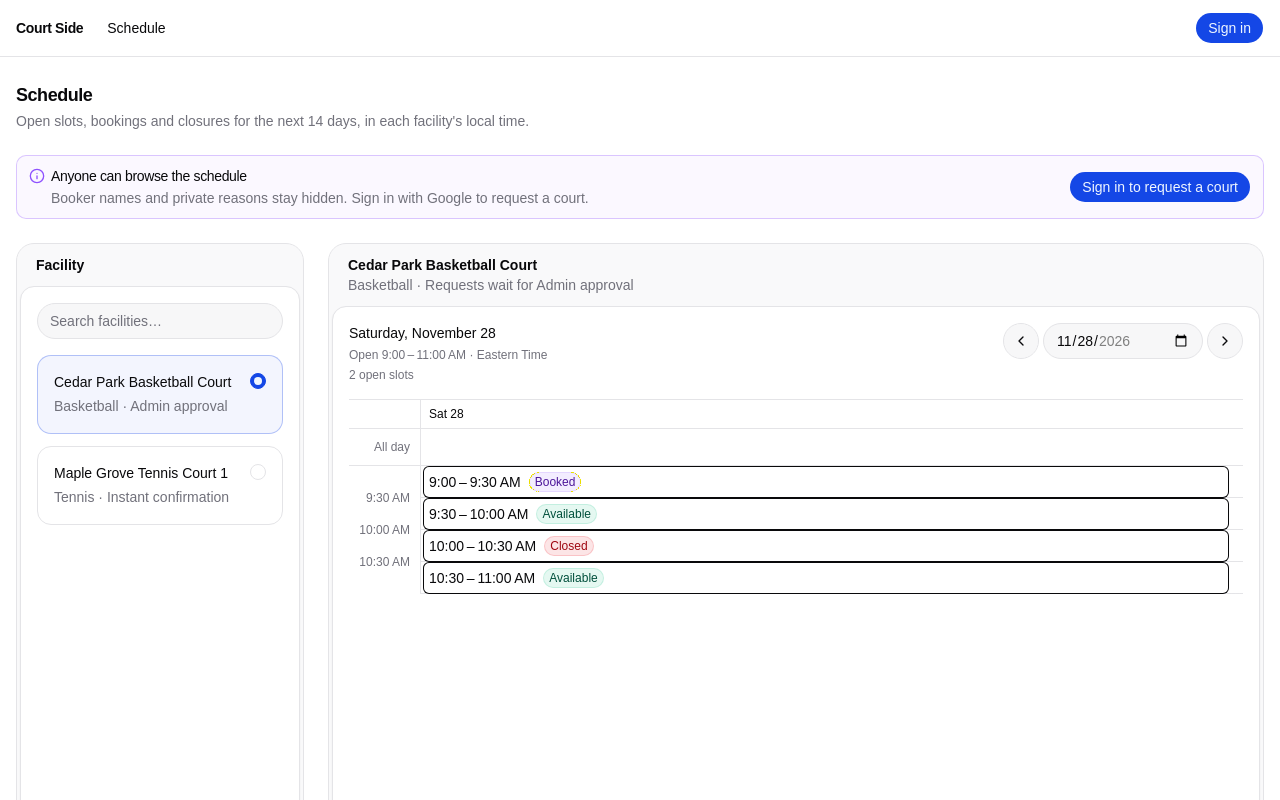
Test: public schedule › filters facilities by sport and clears an empty search
Later steps or results of the test are not shown.
Type "tennis" into the search field labelled "Search facilities".
click(160, 321); type("tennis")  # box [37,303,283,339]
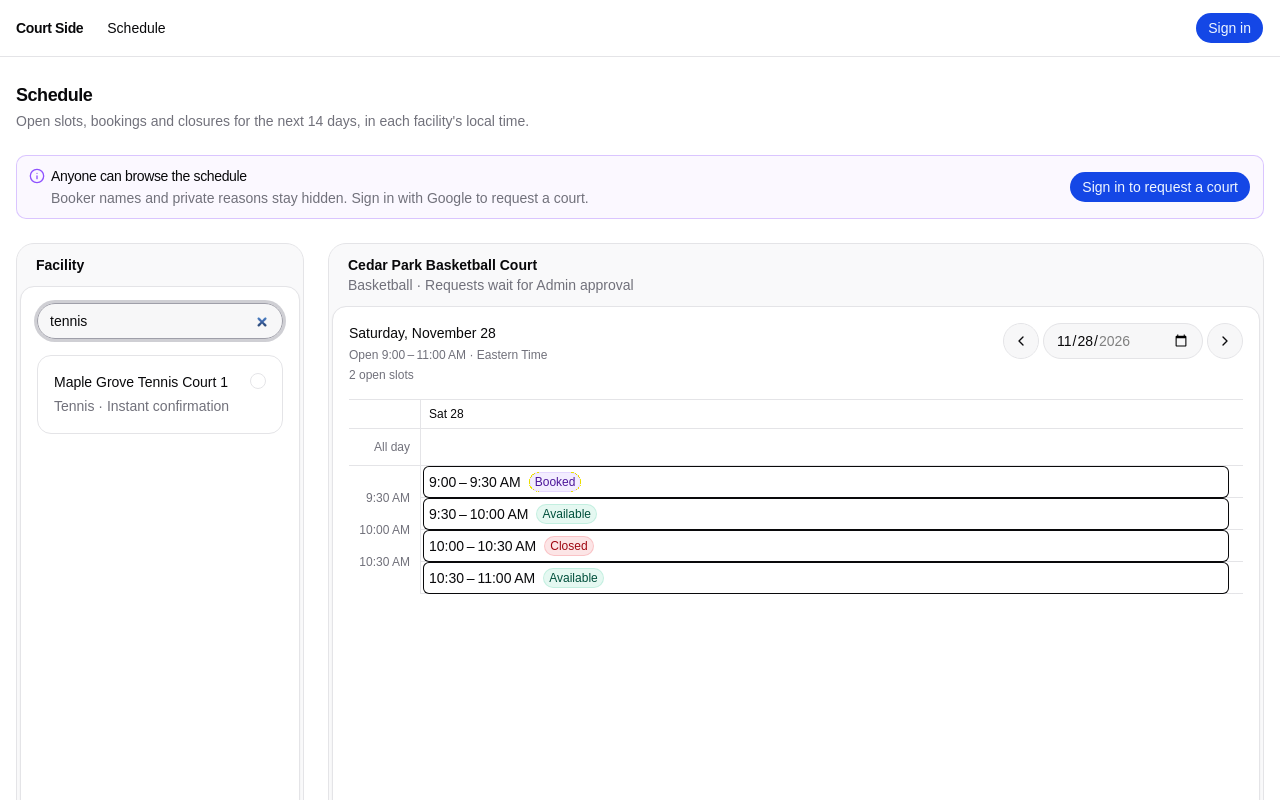
Expected: the radio button named "Maple" is shown, [250,373,266,389]
Replace the text in the search field named "Search facilities" with "unknown" at (160, 321), box [37,303,283,339]
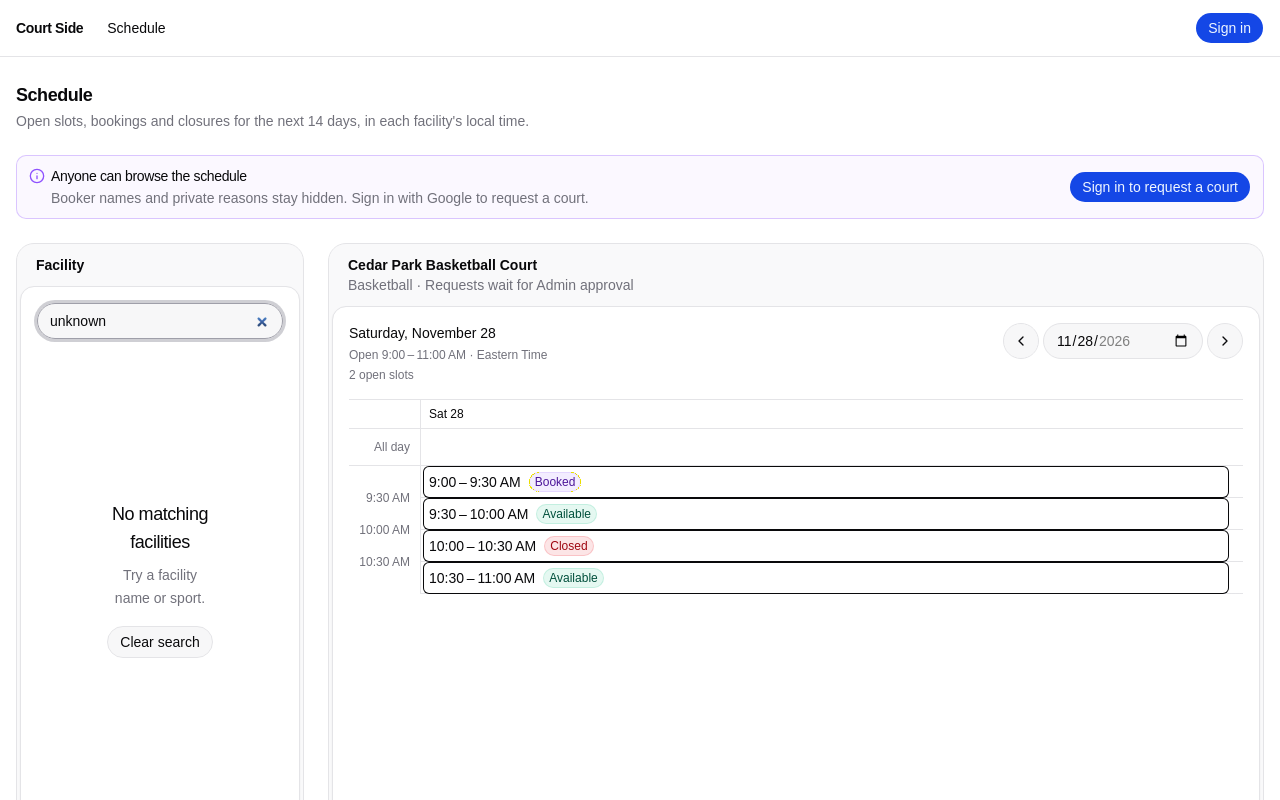
Now the text "No matching facilities" is shown, box [112,504,208,552]
